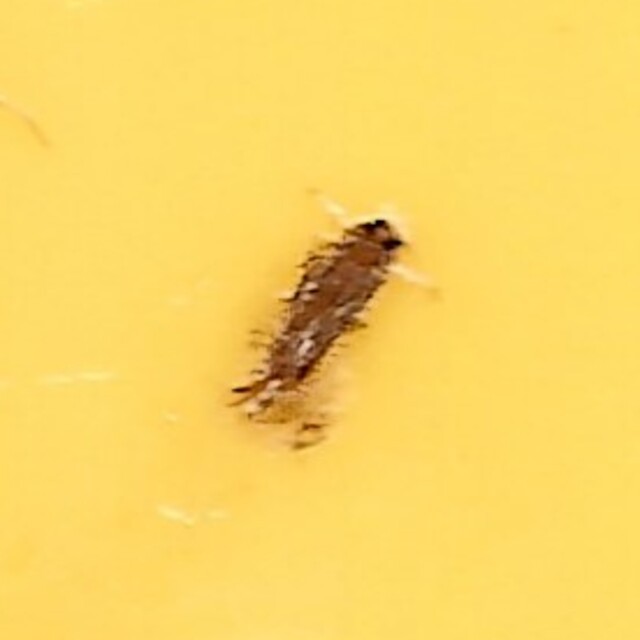Trichoptera: (232, 206, 408, 434)
